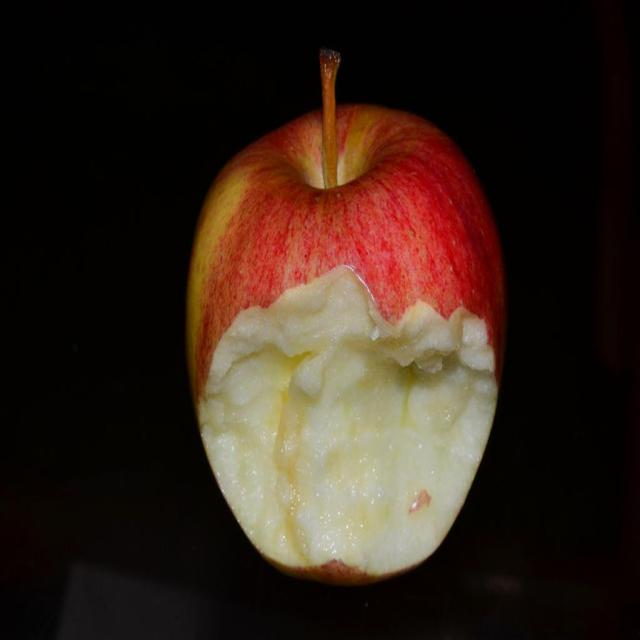Healty Apple: (177, 37, 499, 568)
